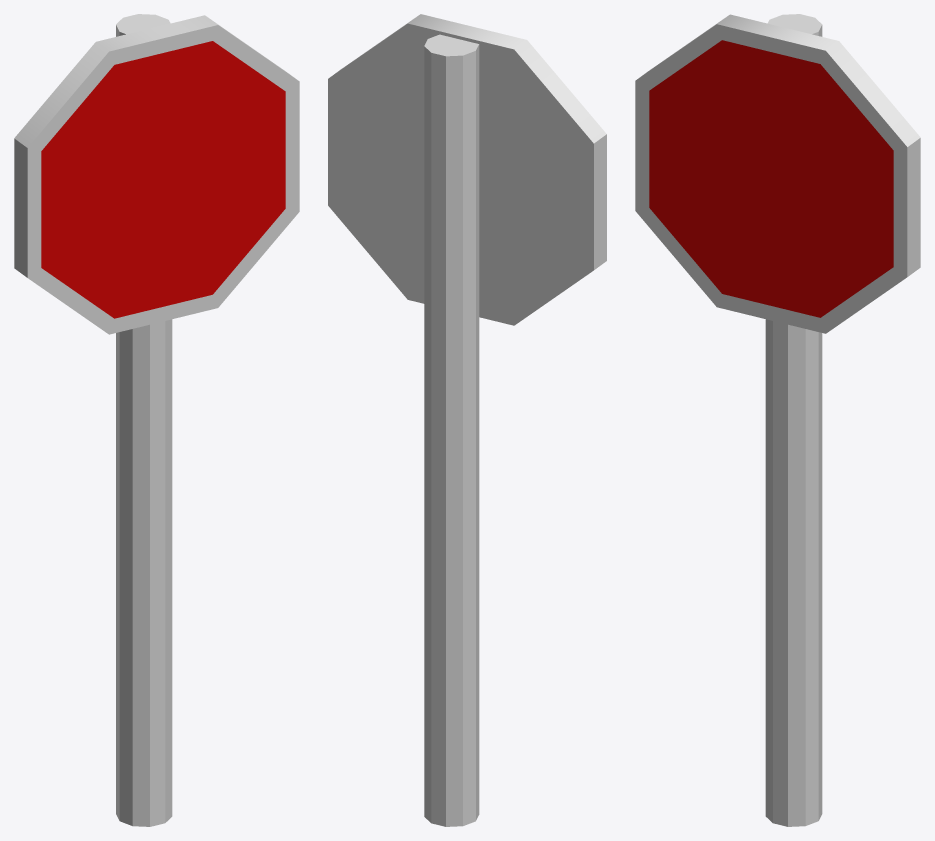
File: Street Sign 4.fbx
The picture shows the model from 3 angles, left to right: view 1: azimuth 30°, elevation 25°; view 2: azimuth 150°, elevation 25°; view 3: azimuth 330°, elevation 25°; orthographic projection. The views are drawn at different scales.
Parts seen in each view (by area): view 1: Street_Sign_4; view 2: Street_Sign_4; view 3: Street_Sign_4.
Boxes of the visible parts, box(x1,y1,x2,y2) form: Street_Sign_4: box(14, 14, 299, 826); Street_Sign_4: box(328, 14, 606, 826); Street_Sign_4: box(635, 14, 920, 826).
Size of the model in its own units: 38.94 by 108 by 8.57.
Materials: 1 (1 with a texture image).
